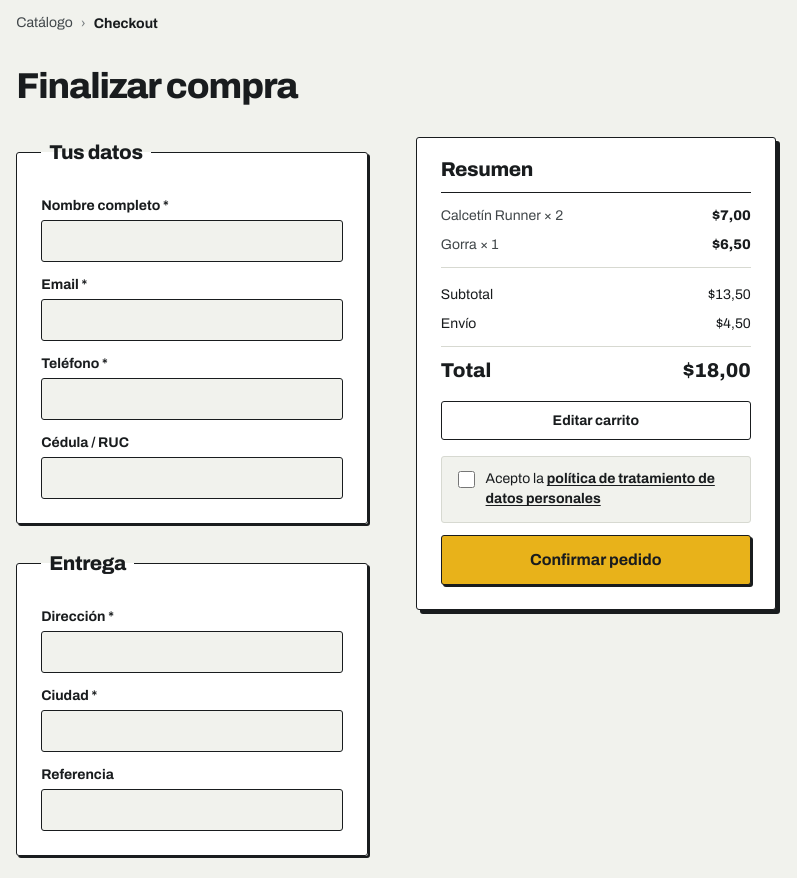
Test: CheckoutPage › valida los campos requeridos antes de enviar
Click the button "Confirmar pedido". click: (596, 560)
box: [441,535,751,585]
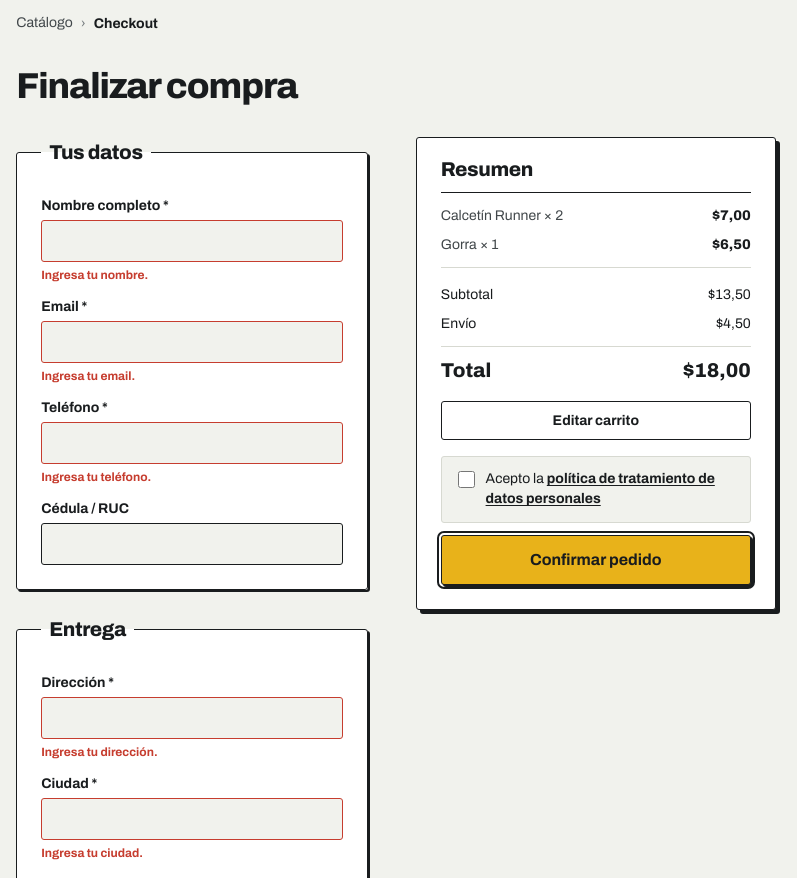
Now the text "Ingresa tu nombre." is shown, box [41,268,148,282]
Now the text "Ingresa tu email." is shown, box [41,369,135,383]
Now the text "Ingresa tu teléfono." is shown, box [41,470,151,484]
